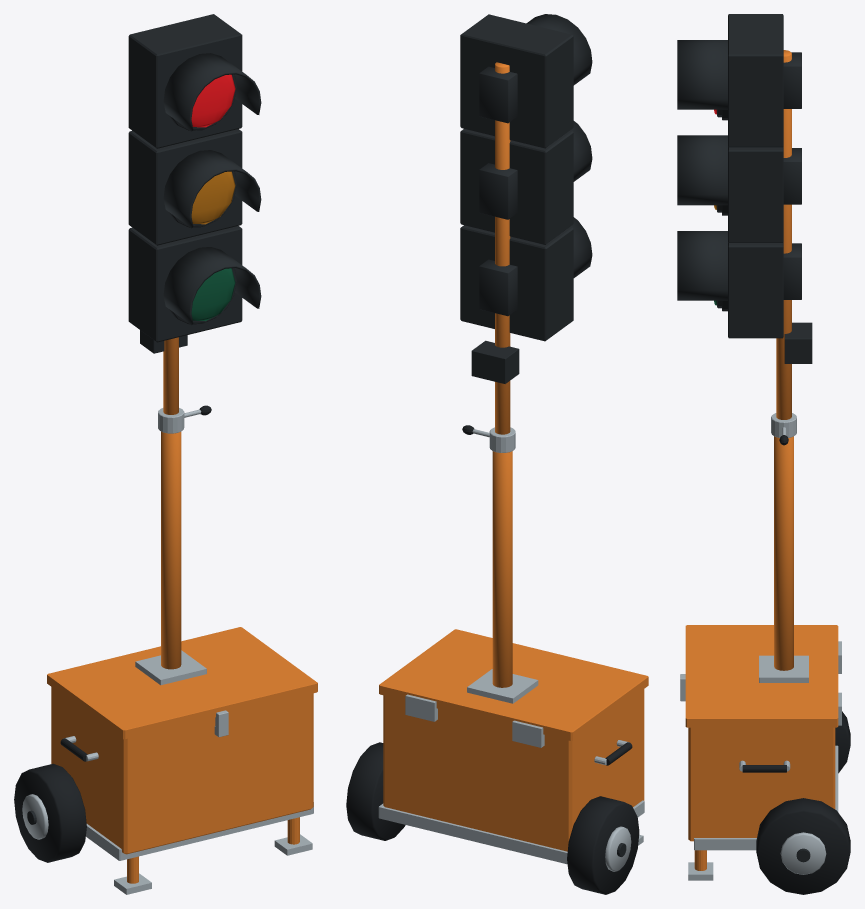
File: portable_vehicle_signal_LOD2.glb
The picture shows the model from 3 angles, left to right: view 1: azimuth 30°, elevation 25°; view 2: azimuth 150°, elevation 25°; view 3: azimuth 270°, elevation 25°; orthographic projection.
Visible parts, largest first — view 1: Base_control_battery_housing, Base_lid, Red_head_module, Amber_head_module, Green_head_module, Pole_lower_sleeve, Left_wheel_tire, Amber_sun_visor, Green_sun_visor, Red_sun_visor, Base_chassis, Red_lens (+5 smaller); view 2: Base_control_battery_housing, Base_lid, Red_head_module, Green_head_module, Amber_head_module, Pole_lower_sleeve, Left_wheel_tire, Right_wheel_tire, Pole_upper_mast, Base_chassis, Green_rear_mast_saddle, Red_rear_mast_saddle (+9 smaller); view 3: Base_lid, Base_control_battery_housing, Red_head_module, Right_wheel_tire, Amber_head_module, Green_head_module, Pole_lower_sleeve, Amber_sun_visor, Green_sun_visor, Red_sun_visor, Pole_upper_mast, Right_wheel_hub (+9 smaller).
Part boxes in pixels (bbox=[...]): Base_control_battery_housing: bbox=[51, 687, 313, 854]; Base_lid: bbox=[47, 627, 317, 739]; Red_head_module: bbox=[128, 14, 242, 148]; Amber_head_module: bbox=[128, 129, 242, 245]; Green_head_module: bbox=[128, 226, 242, 342]; Pole_lower_sleeve: bbox=[161, 431, 181, 669]; Left_wheel_tire: bbox=[14, 763, 86, 862]; Amber_sun_visor: bbox=[163, 150, 261, 228]; Green_sun_visor: bbox=[163, 247, 261, 325]; Red_sun_visor: bbox=[163, 53, 261, 131]; Base_chassis: bbox=[86, 802, 313, 860]; Red_lens: bbox=[191, 74, 235, 127]; Base_control_battery_housing: bbox=[383, 689, 644, 851]; Base_lid: bbox=[379, 629, 648, 740]; Red_head_module: bbox=[460, 14, 573, 148]; Green_head_module: bbox=[460, 225, 573, 341]; Amber_head_module: bbox=[460, 129, 573, 244]; Pole_lower_sleeve: bbox=[492, 451, 512, 687]; Left_wheel_tire: bbox=[567, 796, 639, 894]; Right_wheel_tire: bbox=[346, 742, 405, 840]; Pole_upper_mast: bbox=[495, 62, 510, 434]; Base_chassis: bbox=[378, 800, 644, 864]; Green_rear_mast_saddle: bbox=[479, 259, 517, 316]; Red_rear_mast_saddle: bbox=[479, 66, 517, 123]; Base_lid: bbox=[685, 625, 838, 727]; Base_control_battery_housing: bbox=[688, 727, 835, 841]; Red_head_module: bbox=[728, 14, 783, 147]; Right_wheel_tire: bbox=[756, 798, 850, 894]; Amber_head_module: bbox=[728, 146, 783, 242]; Green_head_module: bbox=[728, 242, 783, 338]; Pole_lower_sleeve: bbox=[774, 436, 793, 670]; Amber_sun_visor: bbox=[677, 135, 727, 205]; Green_sun_visor: bbox=[677, 231, 727, 300]; Red_sun_visor: bbox=[677, 40, 727, 109]; Pole_upper_mast: bbox=[776, 50, 791, 419]; Right_wheel_hub: bbox=[780, 832, 826, 874].
Size of the model in its own units: 1.07 by 3.19 by 0.625.
